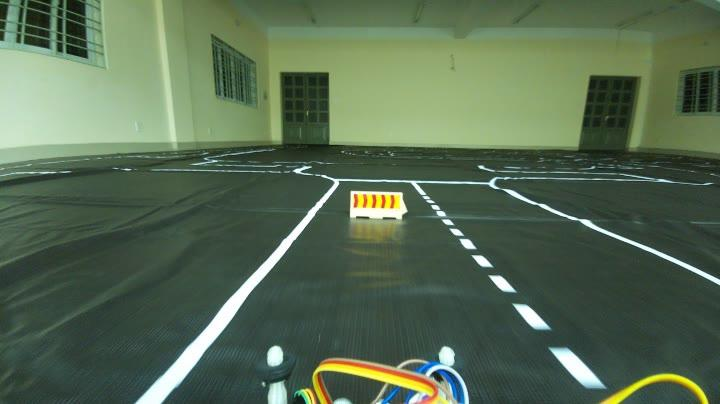roadblock: (342, 182, 415, 227)
